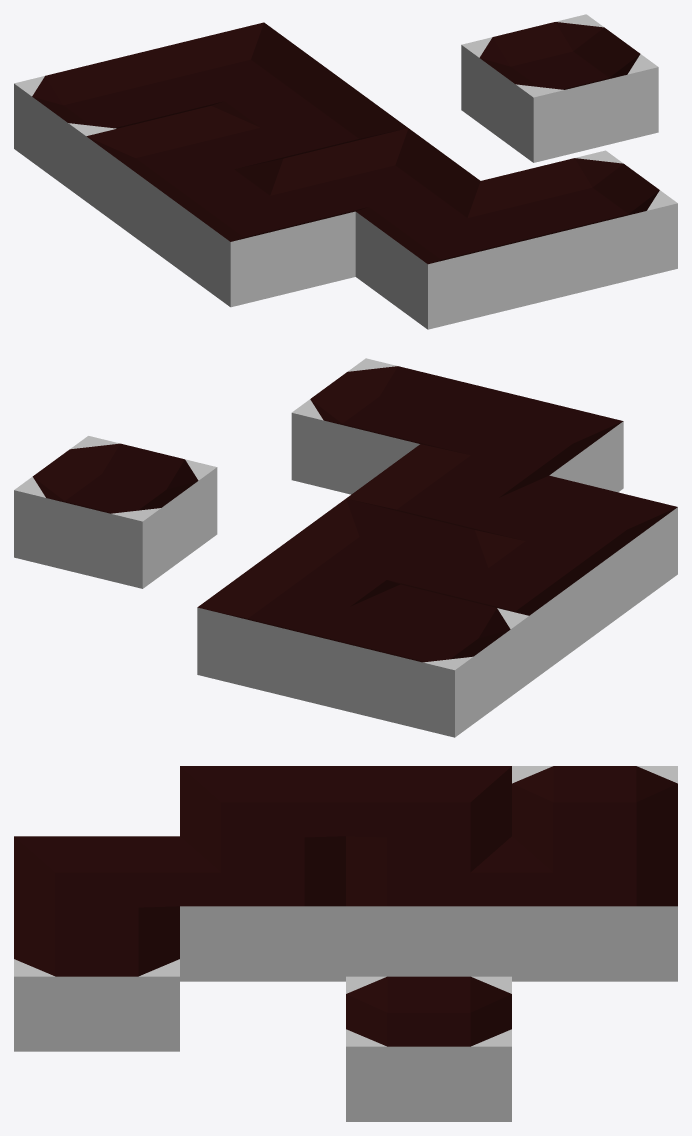
The model's file is 40f_path.obj.
The picture shows the model from 3 angles, top to bottom: view 1: azimuth 30°, elevation 25°; view 2: azimuth 150°, elevation 25°; view 3: azimuth 270°, elevation 25°; orthographic projection. The views are drawn at different scales.
Parts seen in each view (by area): view 1: foil.hole.4.3_Cube.081, foil.corner.1.2_corner.400, foil.corner.2.1_corner.402, foil.ending.3.1_ending.160, foil.corner.1.3_corner.401, foil.ending.1.4_ending.159, foil.corner.2.4_corner.405, foil.corner.2.2_corner.403, foil.corner.2.3_corner.404; view 2: foil.hole.4.3_Cube.081, foil.ending.1.4_ending.159, foil.corner.2.4_corner.405, foil.ending.3.1_ending.160, foil.corner.1.2_corner.400, foil.corner.2.1_corner.402, foil.corner.2.3_corner.404, foil.corner.1.3_corner.401, foil.corner.2.2_corner.403; view 3: foil.hole.4.3_Cube.081, foil.corner.2.2_corner.403, foil.corner.2.4_corner.405, foil.ending.3.1_ending.160, foil.corner.2.3_corner.404, foil.corner.2.1_corner.402, foil.corner.1.2_corner.400, foil.corner.1.3_corner.401, foil.ending.1.4_ending.159.
Part boxes in pixels (left/top/right/bottom): foil.hole.4.3_Cube.081: left=461, top=14, right=658, bottom=162; foil.corner.1.2_corner.400: left=158, top=159, right=355, bottom=307; foil.corner.2.1_corner.402: left=355, top=181, right=552, bottom=329; foil.ending.3.1_ending.160: left=481, top=150, right=677, bottom=298; foil.corner.1.3_corner.401: left=86, top=106, right=282, bottom=253; foil.ending.1.4_ending.159: left=14, top=53, right=209, bottom=201; foil.corner.2.4_corner.405: left=139, top=22, right=335, bottom=114; foil.corner.2.2_corner.403: left=284, top=128, right=480, bottom=219; foil.corner.2.3_corner.404: left=211, top=75, right=407, bottom=161; foil.hole.4.3_Cube.081: left=14, top=436, right=217, bottom=588; foil.ending.1.4_ending.159: left=326, top=584, right=529, bottom=737; foil.corner.2.4_corner.405: left=197, top=553, right=399, bottom=705; foil.ending.3.1_ending.160: left=291, top=358, right=494, bottom=494; foil.corner.1.2_corner.400: left=475, top=475, right=677, bottom=628; foil.corner.2.1_corner.402: left=421, top=390, right=623, bottom=492; foil.corner.2.3_corner.404: left=272, top=498, right=474, bottom=593; foil.corner.1.3_corner.401: left=402, top=530, right=603, bottom=682; foil.corner.2.2_corner.403: left=346, top=444, right=548, bottom=533; foil.hole.4.3_Cube.081: left=346, top=976, right=511, bottom=1121; foil.corner.2.2_corner.403: left=180, top=836, right=345, bottom=981; foil.corner.2.4_corner.405: left=512, top=836, right=677, bottom=981; foil.ending.3.1_ending.160: left=14, top=906, right=179, bottom=1051; foil.corner.2.3_corner.404: left=346, top=836, right=511, bottom=976; foil.corner.2.1_corner.402: left=14, top=836, right=179, bottom=925; foil.corner.1.2_corner.400: left=180, top=766, right=345, bottom=854; foil.corner.1.3_corner.401: left=346, top=766, right=511, bottom=854; foil.ending.1.4_ending.159: left=512, top=766, right=677, bottom=854.
Bounding box in the file's own units: 8 × 1 × 8.
